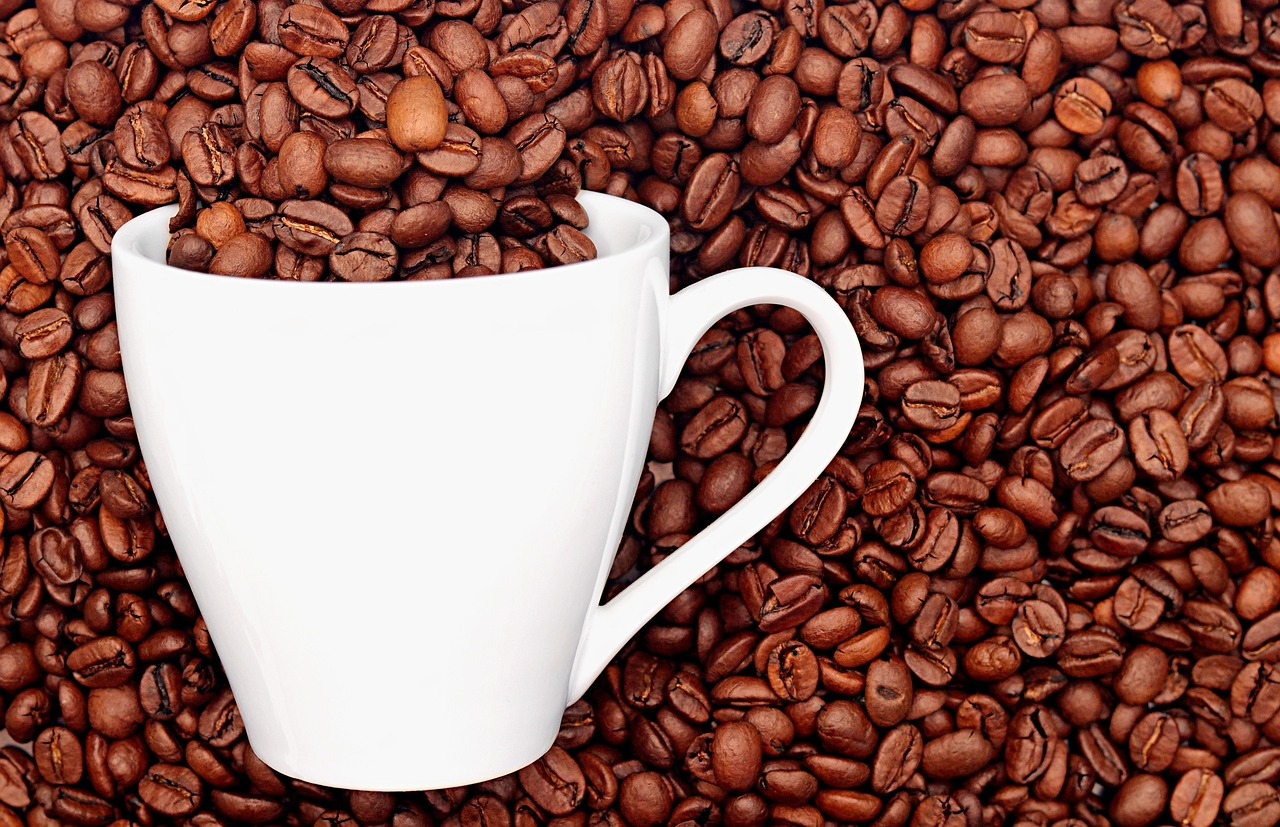mug: (101, 163, 917, 803)
